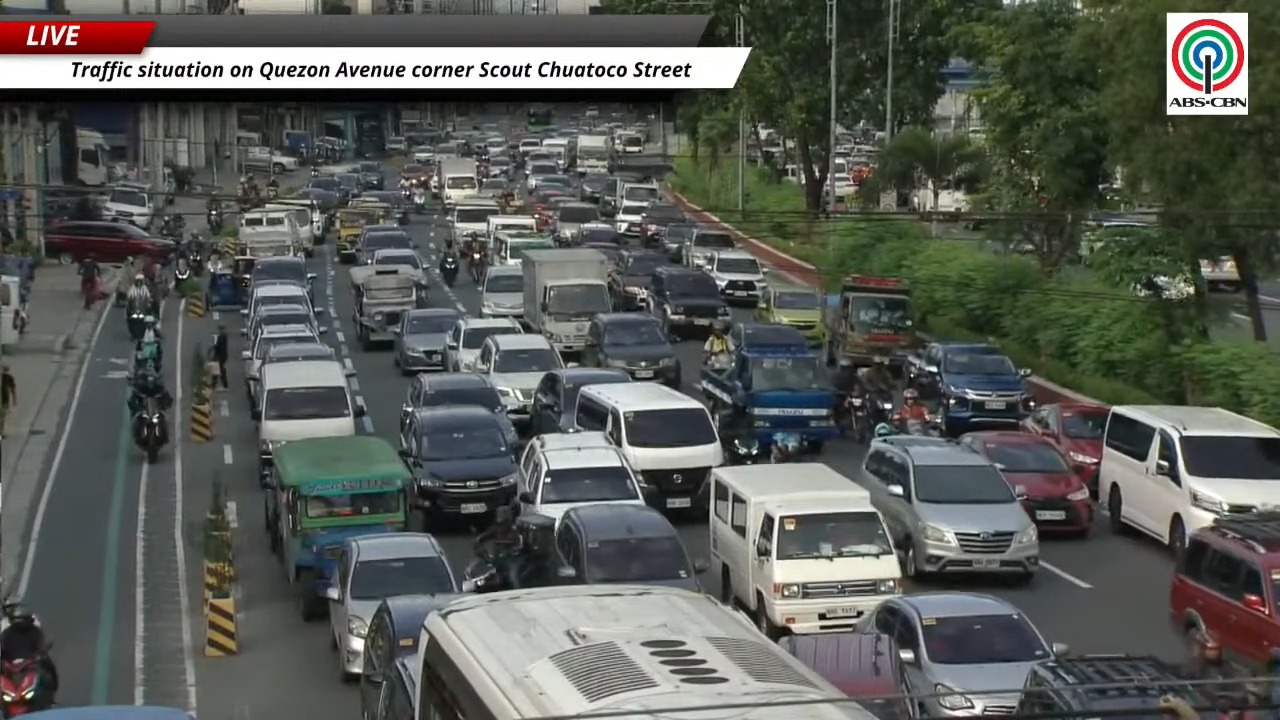bus: (416, 585, 873, 719), (526, 105, 553, 131)
car: (1099, 405, 1279, 556), (857, 435, 1038, 582), (858, 591, 1067, 716), (324, 533, 458, 678), (1170, 510, 1279, 676), (959, 431, 1093, 536), (401, 405, 515, 523), (556, 504, 707, 591), (1013, 654, 1217, 717), (359, 594, 458, 719), (778, 631, 916, 719), (904, 342, 1034, 435), (517, 442, 646, 521), (1022, 402, 1108, 497), (473, 334, 564, 422), (581, 312, 681, 388), (529, 367, 631, 438), (241, 324, 319, 407), (399, 373, 505, 432), (649, 265, 730, 336), (44, 221, 172, 263), (394, 308, 461, 373), (447, 317, 523, 371), (755, 287, 825, 345), (608, 249, 669, 310), (705, 250, 766, 305), (250, 256, 316, 304), (240, 280, 322, 317), (241, 303, 322, 339), (102, 182, 163, 228), (258, 340, 335, 375), (728, 322, 806, 352), (682, 225, 736, 267), (480, 265, 523, 317), (355, 226, 415, 263), (293, 188, 341, 231), (368, 248, 424, 284), (554, 199, 599, 242), (356, 190, 410, 225), (641, 203, 685, 244), (262, 341, 335, 365), (306, 175, 350, 206), (661, 222, 695, 262), (614, 201, 647, 238), (579, 242, 623, 266), (526, 160, 558, 192), (578, 174, 608, 206), (477, 176, 517, 199), (539, 174, 572, 201), (358, 161, 383, 190), (335, 172, 363, 196), (488, 156, 512, 182), (400, 161, 431, 181), (517, 136, 542, 157), (526, 149, 555, 164)
motorcycle: (0, 656, 51, 718), (462, 550, 520, 592), (135, 399, 167, 463), (838, 393, 872, 443), (463, 557, 507, 592), (723, 436, 762, 464), (866, 390, 893, 426), (770, 433, 801, 463), (134, 340, 162, 372), (902, 416, 942, 437), (0, 596, 21, 632), (127, 307, 145, 342), (159, 214, 184, 239), (12, 300, 29, 334), (439, 257, 458, 287), (703, 352, 732, 371), (468, 251, 484, 285), (174, 253, 192, 282), (206, 208, 222, 234), (412, 187, 426, 213), (400, 186, 412, 199), (267, 185, 278, 199), (310, 166, 321, 179)
truck: (699, 340, 837, 451), (521, 248, 611, 354), (823, 274, 918, 371), (438, 157, 478, 207), (576, 134, 611, 174)
